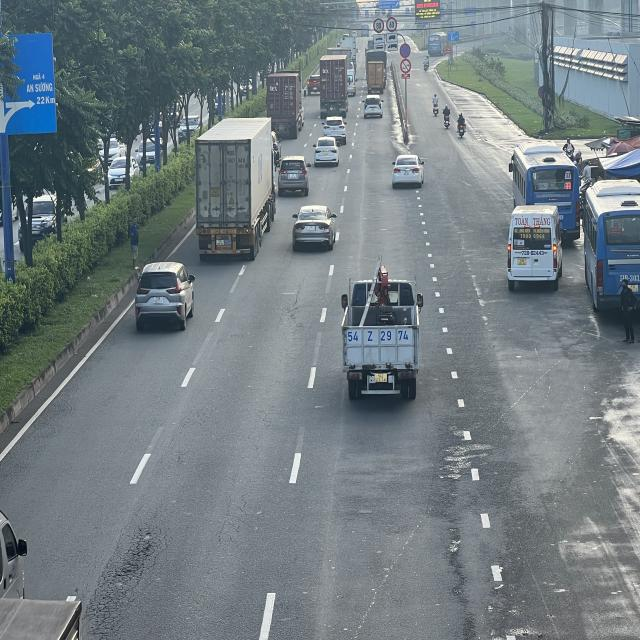car: (138, 260, 198, 328), (293, 205, 340, 250), (276, 156, 311, 197), (392, 154, 427, 188)
coach: (580, 178, 637, 322)
container: (192, 120, 276, 262), (266, 74, 305, 138), (320, 54, 352, 115)
truck: (339, 272, 422, 404), (367, 61, 388, 94)
van: (509, 204, 565, 288)
